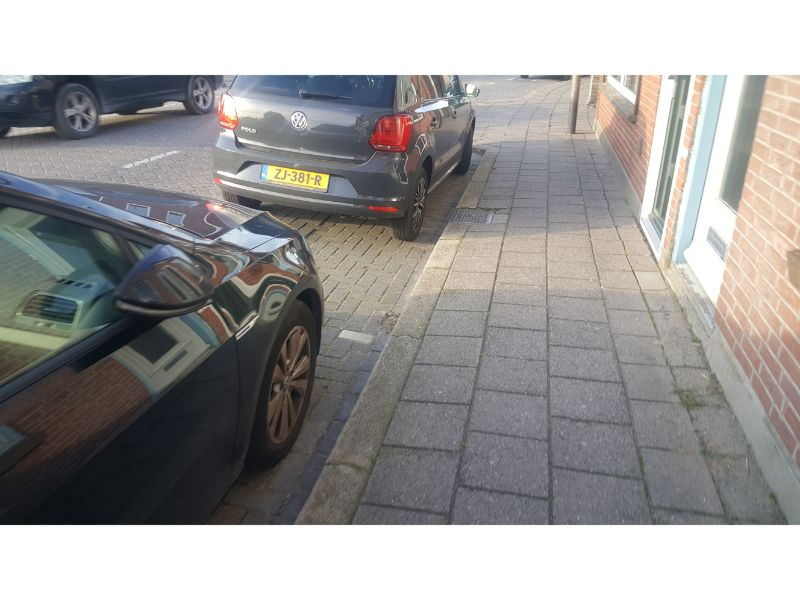kenteken: (262, 161, 330, 193)
